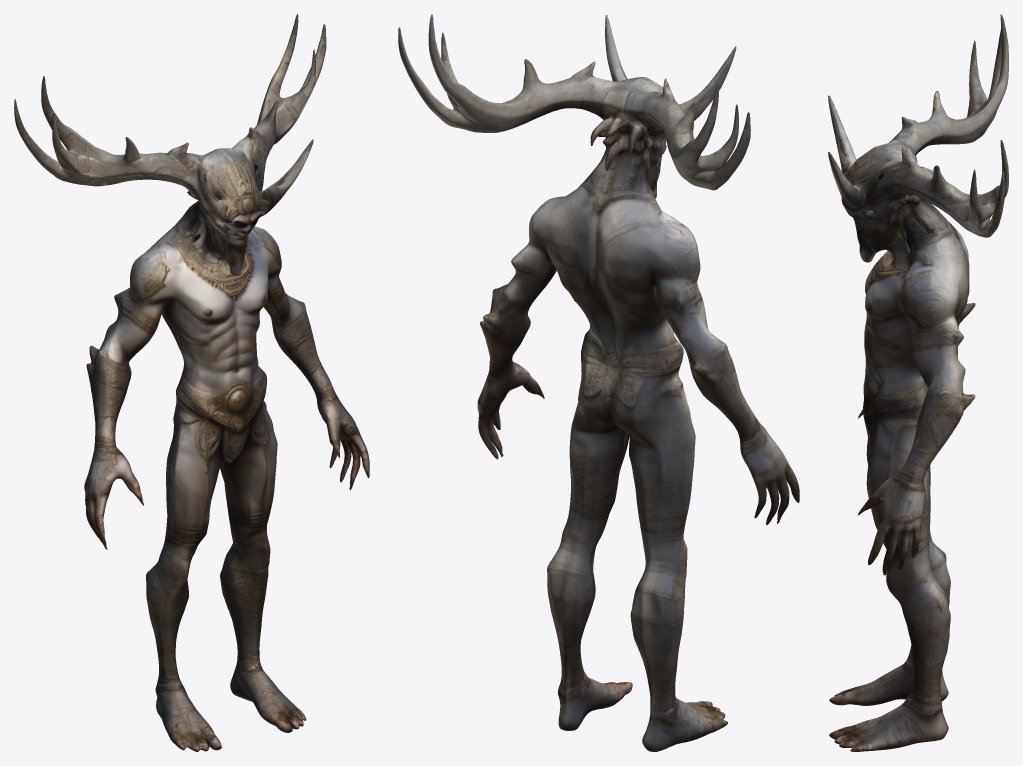
Rendered from Design_a_hyper_realis_0202131227_texture.fbx.
The picture shows the model from 3 angles, left to right: view 1: azimuth 30°, elevation 25°; view 2: azimuth 150°, elevation 25°; view 3: azimuth 270°, elevation 25°; orthographic projection. The views are drawn at different scales.
Visible parts, largest first — view 1: Mesh1_Mesh1.016; view 2: Mesh1_Mesh1.016; view 3: Mesh1_Mesh1.016.
Boxes of the visible parts, x1=… form: Mesh1_Mesh1.016: x1=14, y1=14, x2=369, y2=751; Mesh1_Mesh1.016: x1=398, y1=14, x2=799, y2=751; Mesh1_Mesh1.016: x1=828, y1=14, x2=1008, y2=751.
Bounding box in the file's own units: 102 × 200 × 50.79.
1 material, 1 textured.
